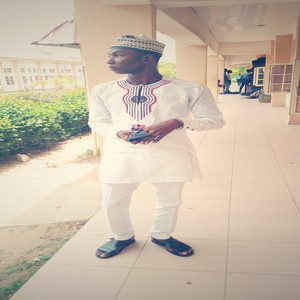Fulokoja_male_student: (91, 44, 193, 257)
